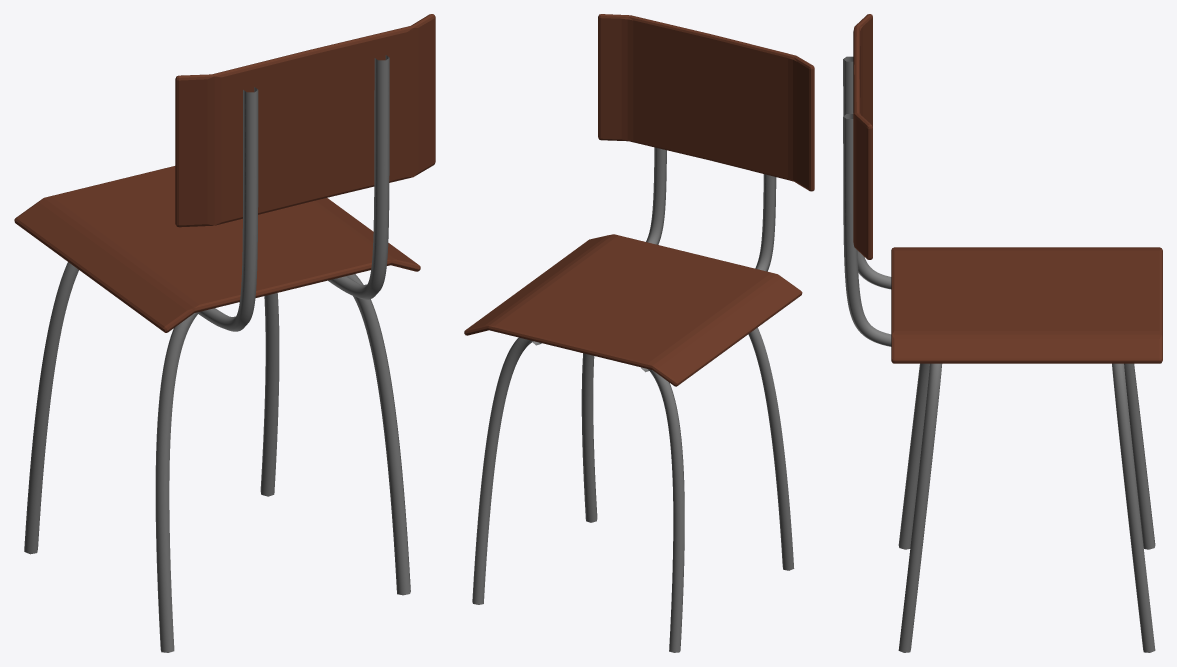
Rendered from BrChair.fbx.
The picture shows the model from 3 angles, left to right: view 1: azimuth 30°, elevation 25°; view 2: azimuth 150°, elevation 25°; view 3: azimuth 270°, elevation 25°; orthographic projection. The views are drawn at different scales.
Visible parts, largest first — view 1: Cube.001; view 2: Cube.001; view 3: Cube.001.
Boxes of the visible parts, bbox=[...] form: Cube.001: bbox=[14, 14, 435, 652]; Cube.001: bbox=[464, 14, 814, 652]; Cube.001: bbox=[843, 14, 1162, 652].
Size of the model in its own units: 39.43 by 86.19 by 47.08.
